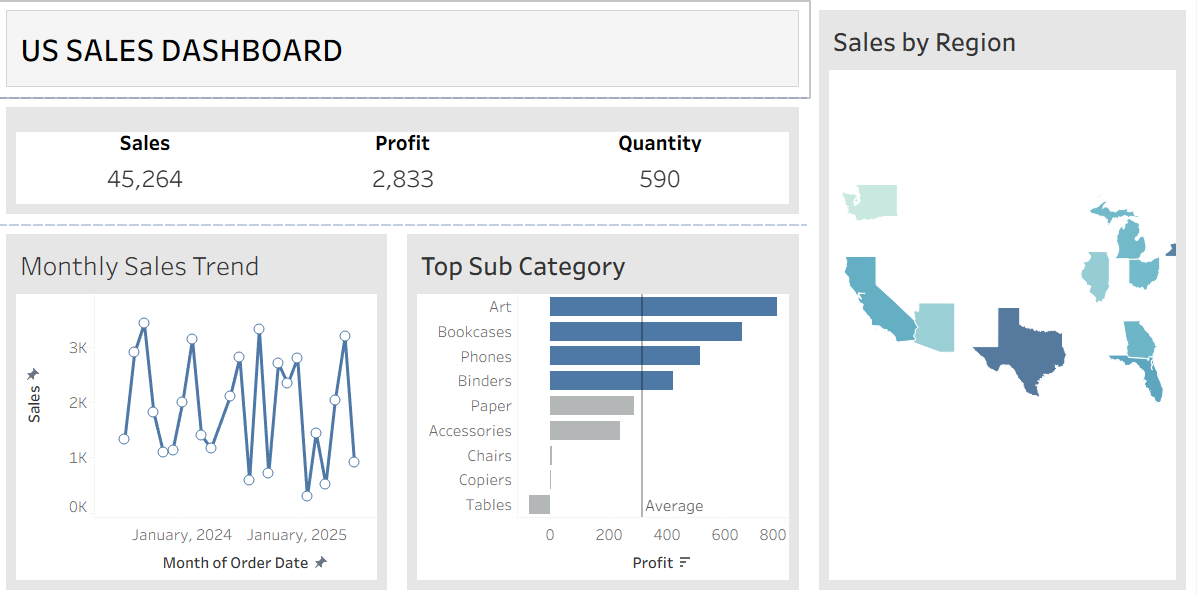

The page's visual inventory and layout, read from the dashboard file:
{"tool":"tableau","page":{"name":"Dashboard 2","canvas":[1200,600],"ordinal":1},"visuals":[{"type":"text","box":[0,0,813,97]},{"type":"worksheet","title":"Sales by region","mark":"Automatic","box":[813,0,387,600]},{"type":"worksheet","title":"kpi","mark":"Text","box":[0,97,813,127]},{"type":"worksheet","title":"Sheet 6","mark":"Automatic","rows":["sales","sales"],"cols":["order_date"],"box":[0,224,401,376]},{"type":"worksheet","title":"Sheet 5","mark":"Automatic","rows":["sub_category"],"cols":["profit"],"box":[401,224,412,376]}]}

Visuals, with their boxes in screenshot pixels (x1, y1, x2, y2), scaled from the page's 1200x600 canvas onto the 1197x597 screenshot:
text: 0, 0, 811, 97
"Sales by region" worksheet: 811, 0, 1196, 596
"kpi" worksheet (Text marks): 0, 97, 811, 223
"Sheet 6" worksheet: 0, 223, 400, 596
"Sheet 5" worksheet: 400, 223, 811, 596
